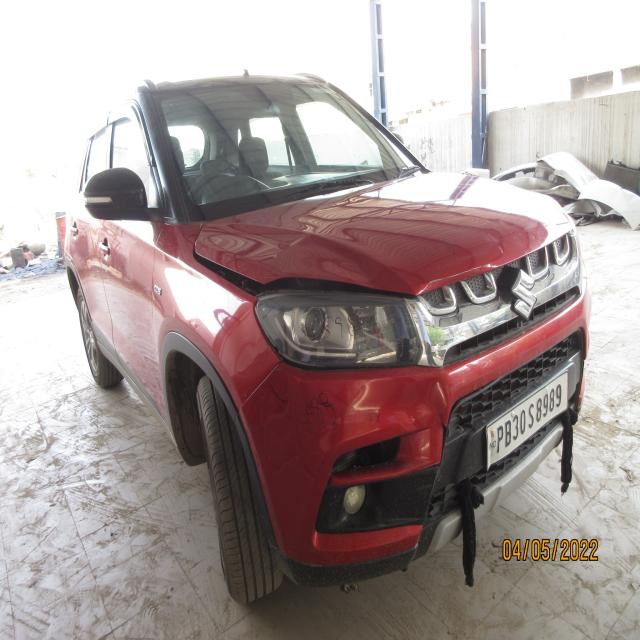damage: (349, 371, 441, 466), (310, 240, 396, 288), (440, 422, 451, 436)
